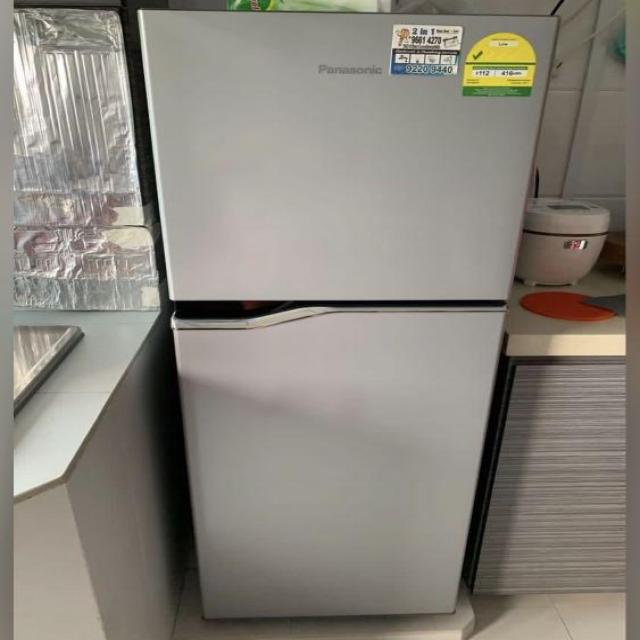refrigerator: (135, 7, 562, 622)
